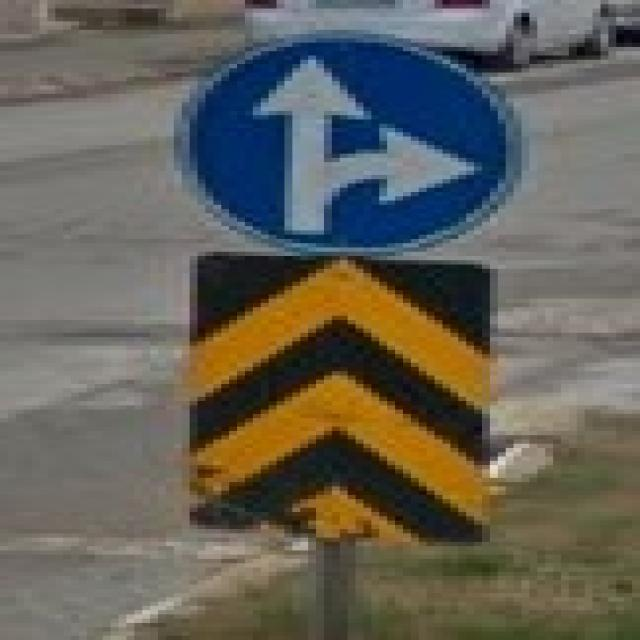Straight or Right: (183, 31, 523, 248)
